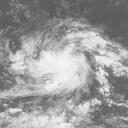cyclone: (36, 43, 89, 95)
